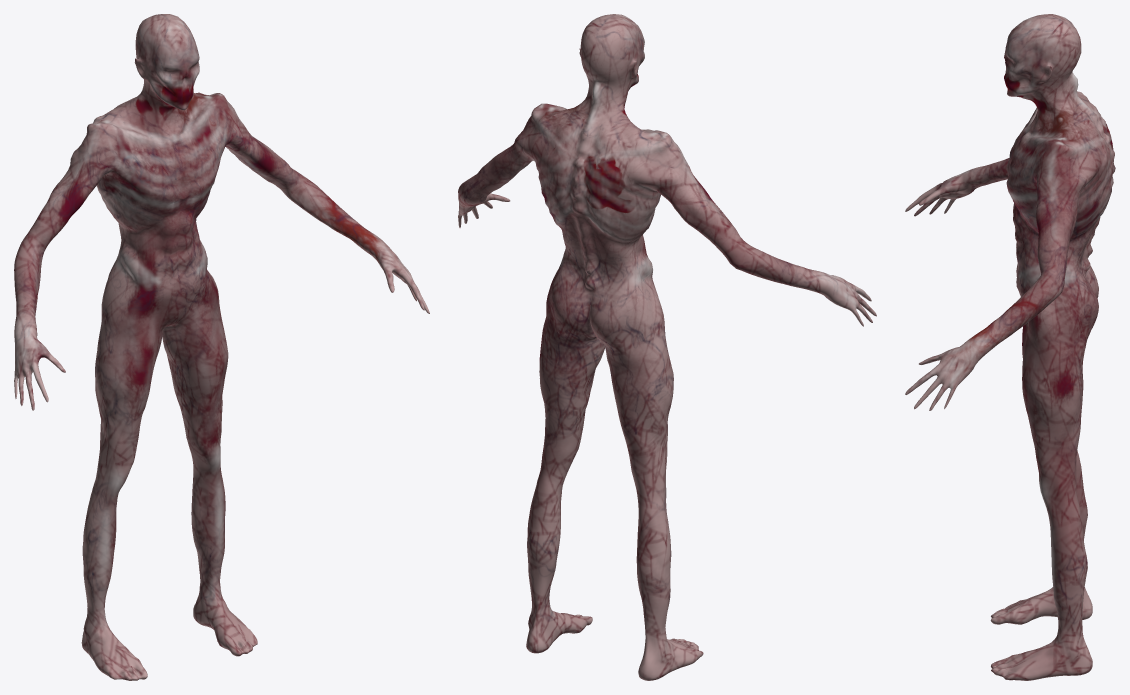
Rendered from zombie.glb.
The picture shows the model from 3 angles, left to right: view 1: azimuth 30°, elevation 25°; view 2: azimuth 150°, elevation 25°; view 3: azimuth 270°, elevation 25°; orthographic projection.
Parts seen in each view (by area): view 1: coekMesh; view 2: coekMesh; view 3: coekMesh.
Boxes of the visible parts, x1,y1,x2,y2 form: coekMesh: [14, 14, 429, 680]; coekMesh: [458, 14, 876, 680]; coekMesh: [905, 14, 1115, 680].
Bounding box in the file's own units: 1.17 × 1.74 × 0.5284.
1 material, 1 textured.
